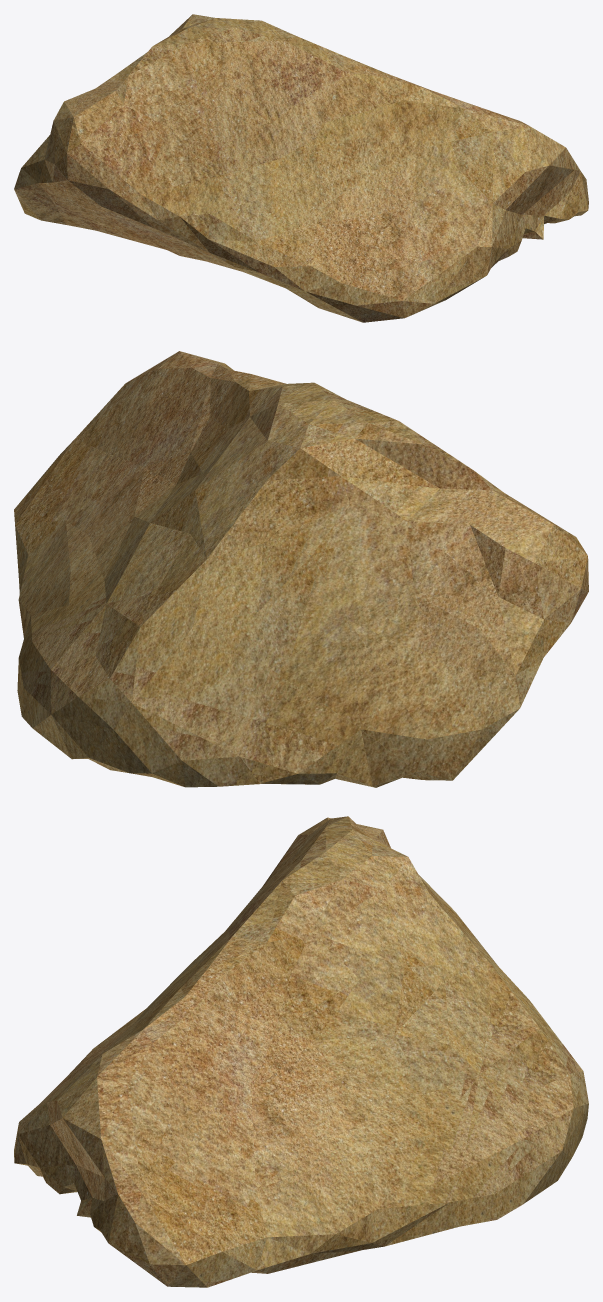
File: SmallBoulder.dae
3 views of the same model, one above another, from view 1: azimuth 30°, elevation 25°; view 2: azimuth 150°, elevation 25°; view 3: azimuth 270°, elevation 25° (orthographic). The views are drawn at different scales.
Parts seen in each view (by area): view 1: skp36B; view 2: skp36B; view 3: skp36B.
Part boxes in pixels (x1=…): skp36B: x1=14, y1=14, x2=588, y2=322; skp36B: x1=14, y1=351, x2=588, y2=787; skp36B: x1=14, y1=816, x2=588, y2=1287.
Size of the model in its own units: 18.97 by 16.18 by 8.59.
Materials: 1 (1 with a texture image).
